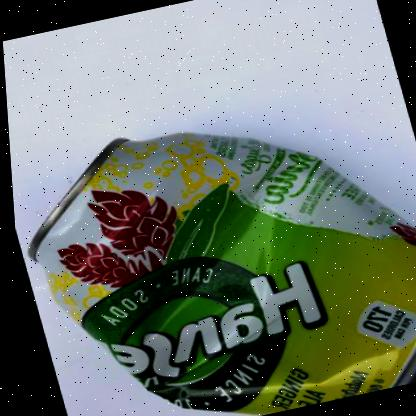Metal: (25, 132, 416, 415)
